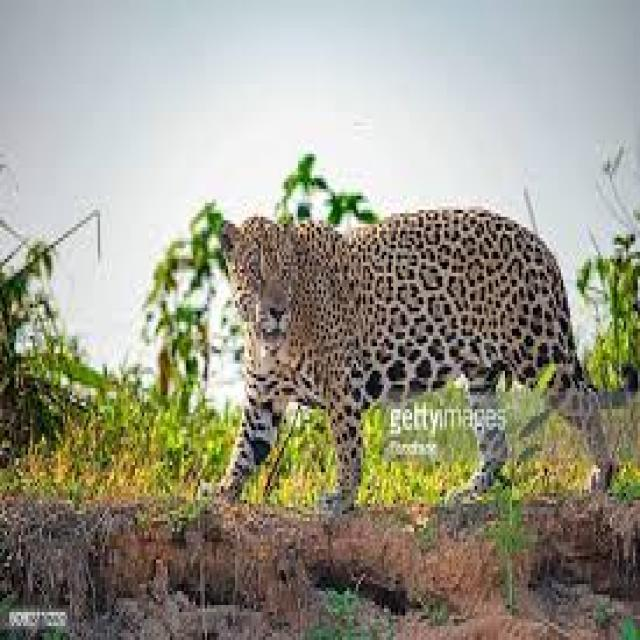Jaguar: (219, 206, 621, 511)
